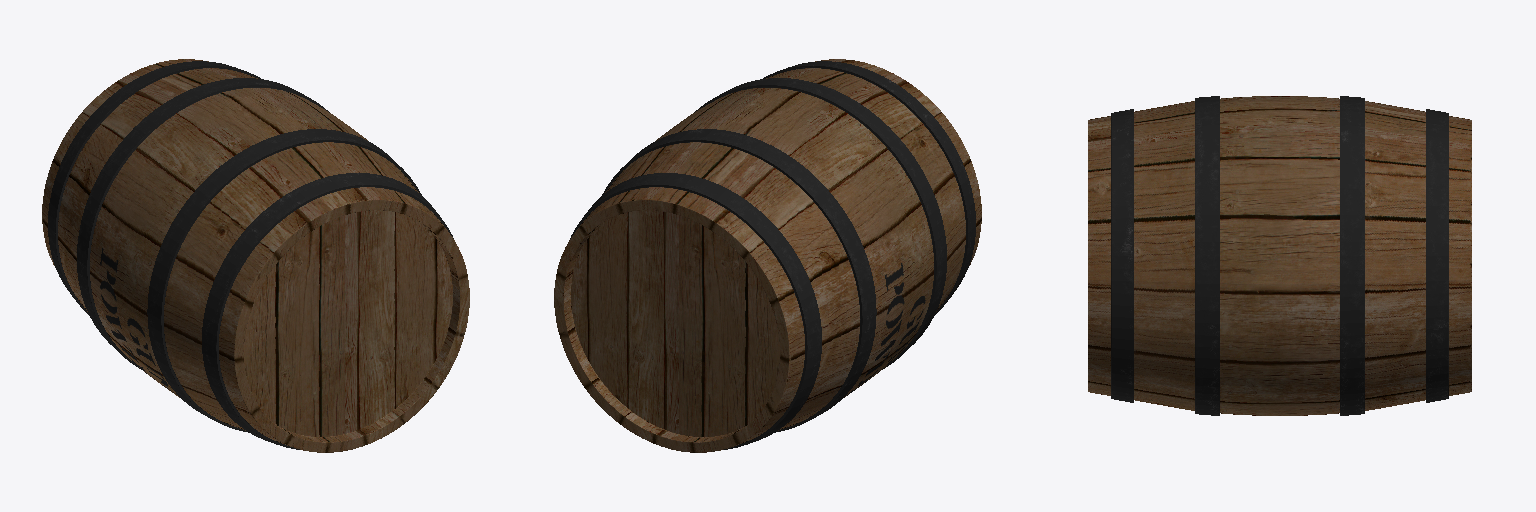
The picture shows the model from 3 angles: view 1: azimuth 30°, elevation 25°; view 2: azimuth 150°, elevation 25°; view 3: azimuth 270°, elevation 25°; orthographic projection.
Parts seen in each view (by area): view 1: 14057_Gun_Powder_Keg; view 2: 14057_Gun_Powder_Keg; view 3: 14057_Gun_Powder_Keg.
Part boxes in pixels (x1,y1,x2,y2): 14057_Gun_Powder_Keg: (42,59,469,452); 14057_Gun_Powder_Keg: (554,59,981,452); 14057_Gun_Powder_Keg: (1088,96,1471,415).
Bounding box in the file's own units: 48.64 × 48.64 × 58.42.
Materials: 1 (1 with a texture image).